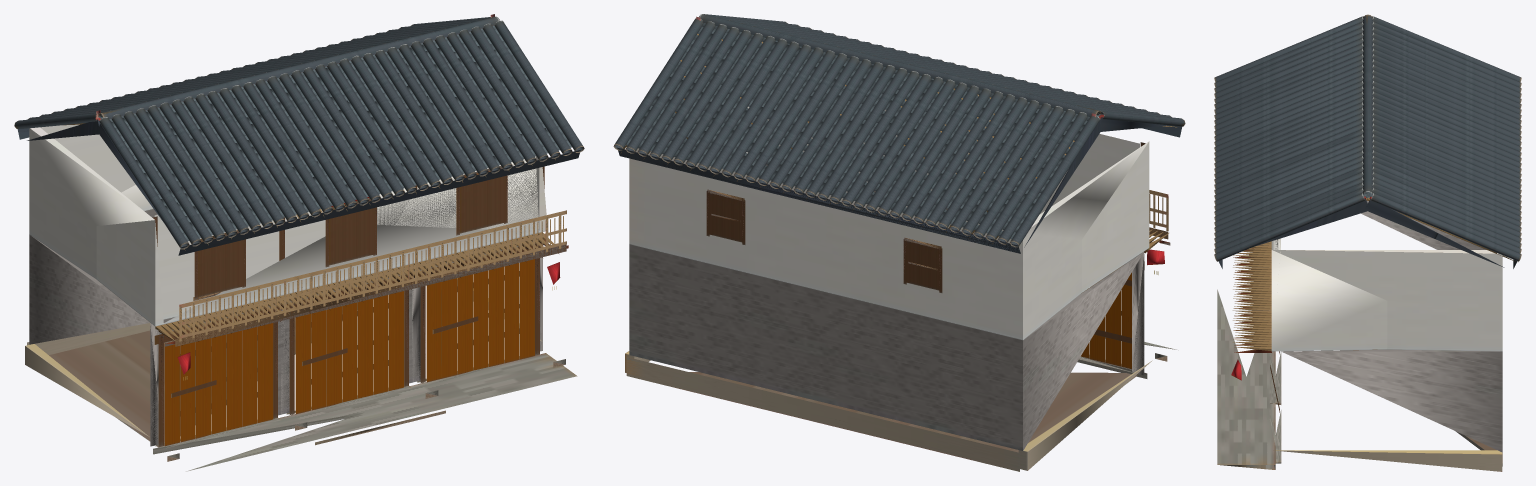
Rendered from lib_lib_house_a2.lod.glb.
3 views of the same model, side by side, from view 1: azimuth 30°, elevation 25°; view 2: azimuth 150°, elevation 25°; view 3: azimuth 270°, elevation 25° (orthographic). The views are drawn at different scales.
Parts seen in each view (by area): view 1: house_a2; view 2: house_a2; view 3: house_a2.
Part boxes in pixels (bbox=[...]): house_a2: bbox=[14, 14, 584, 471]; house_a2: bbox=[613, 14, 1185, 471]; house_a2: bbox=[1214, 14, 1521, 471].
Bounding box in the file's own units: 11.12 × 8 × 7.99.
Materials: 8 (8 with a texture image).
